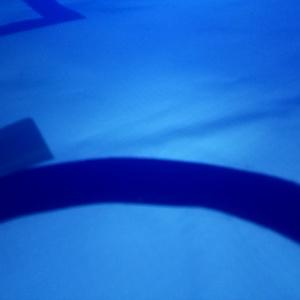top_right: (1, 117, 54, 209)
